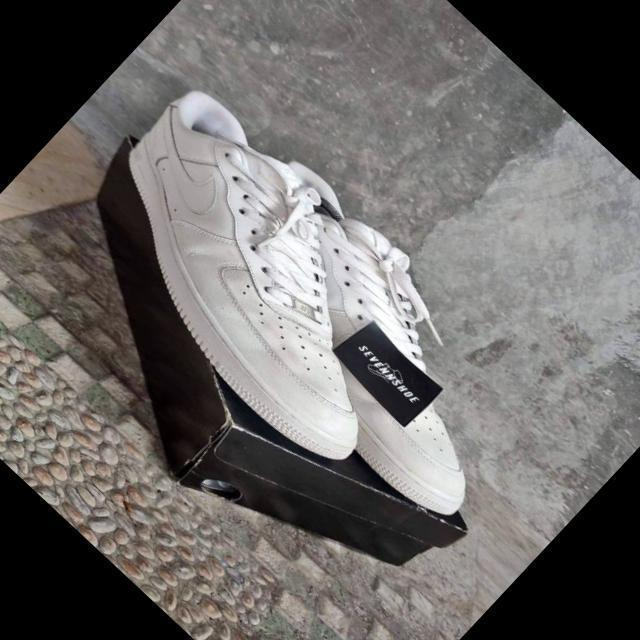nike fake air force: (53, 78, 470, 486), (174, 155, 562, 533)
